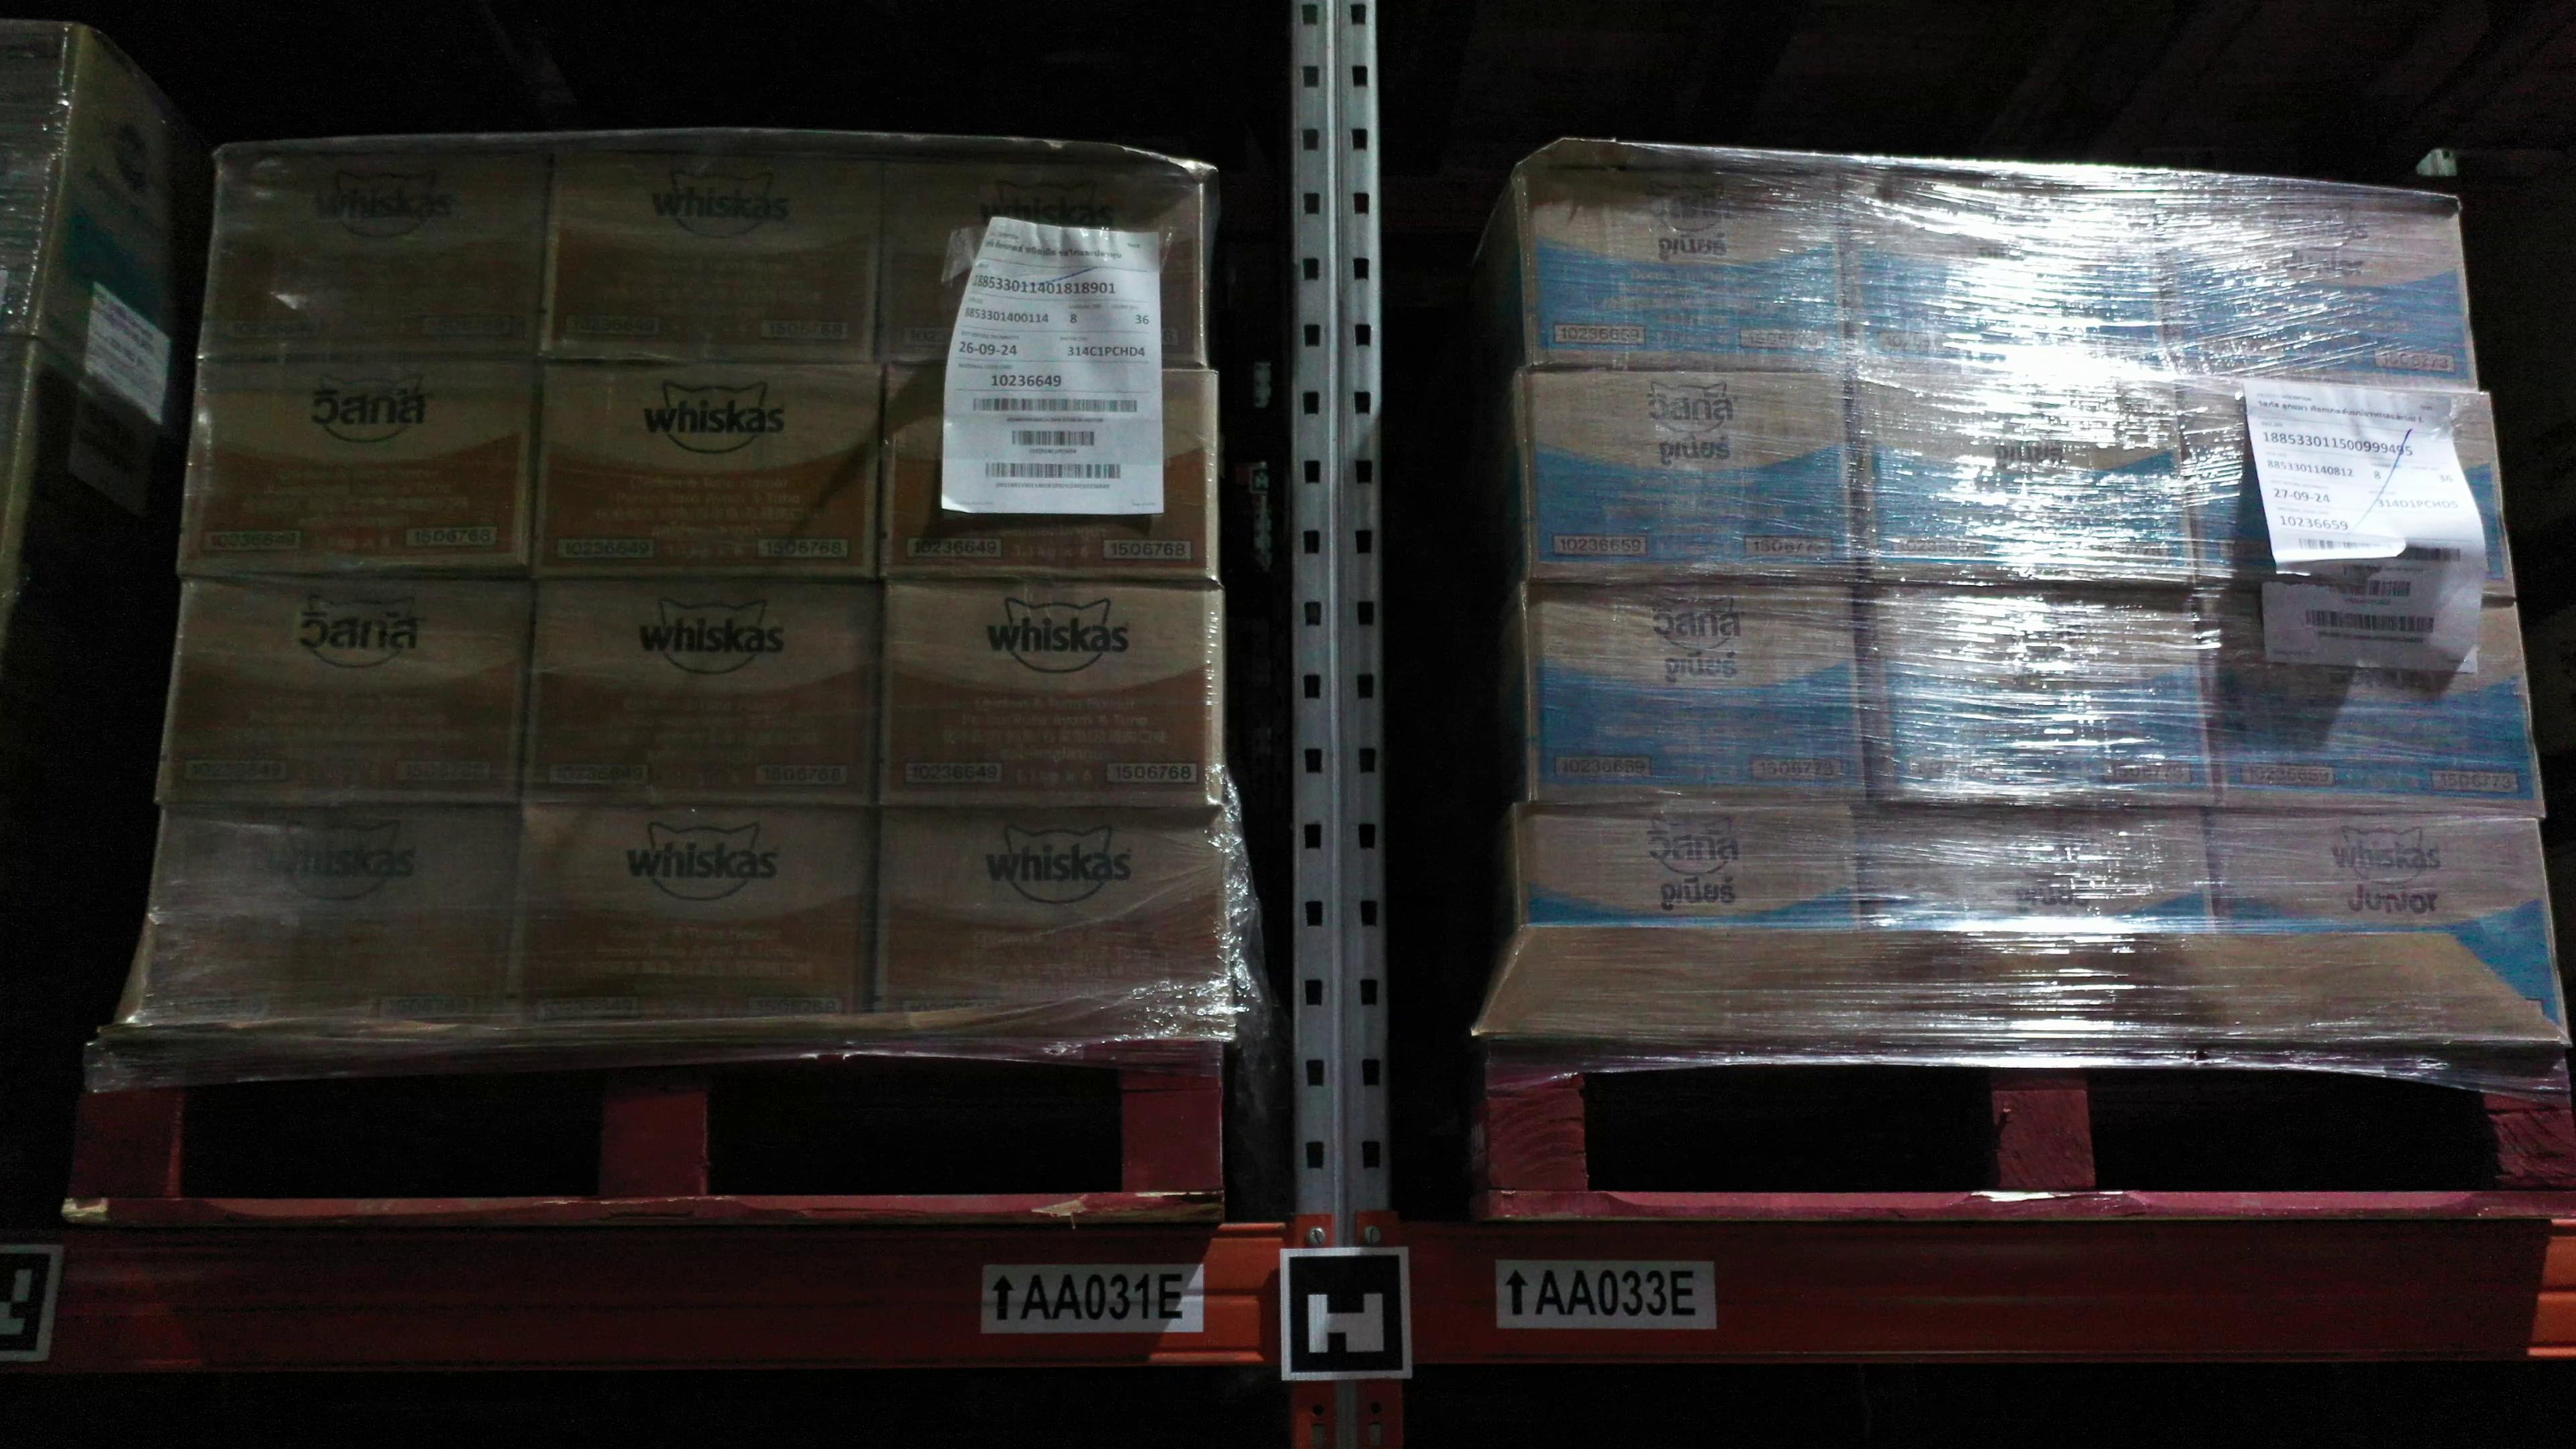-: (159, 573, 536, 807), (517, 577, 879, 810), (202, 127, 557, 364), (136, 803, 520, 1023), (2210, 805, 2571, 1037), (2194, 584, 2544, 821), (1856, 582, 2217, 812), (502, 805, 874, 1028), (872, 575, 1221, 810), (540, 129, 883, 366), (867, 810, 1228, 1028), (177, 359, 540, 575), (534, 356, 879, 582), (1523, 577, 1872, 800), (879, 134, 1203, 373), (2178, 375, 2514, 603), (1847, 372, 2197, 586), (1518, 366, 1858, 586), (881, 363, 1217, 582), (2150, 168, 2477, 393), (1840, 166, 2176, 380), (1518, 161, 1849, 373), (1856, 798, 2222, 938), (1511, 798, 1867, 932)
